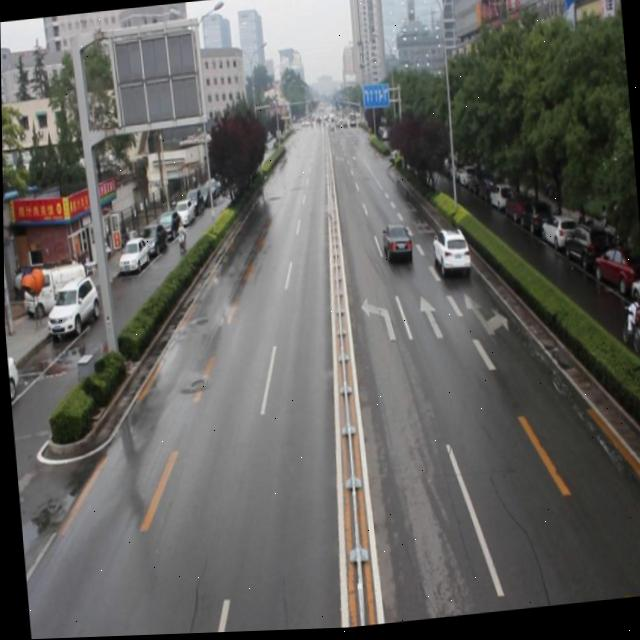car: (429, 227, 471, 282), (379, 224, 412, 267), (387, 151, 398, 167)
